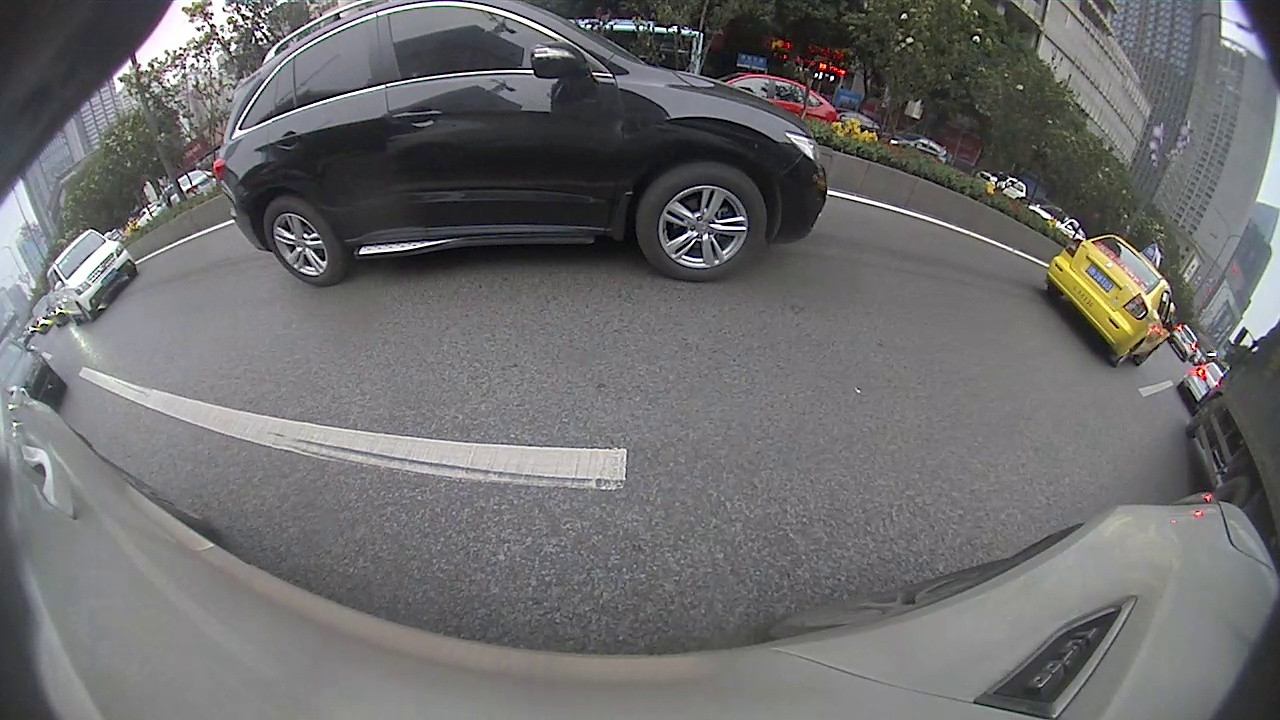car: (215, 2, 826, 288), (1045, 224, 1170, 370), (46, 231, 137, 326), (1176, 362, 1231, 418), (1175, 323, 1198, 361)
front: (644, 168, 767, 281)
rear: (263, 199, 343, 286)
